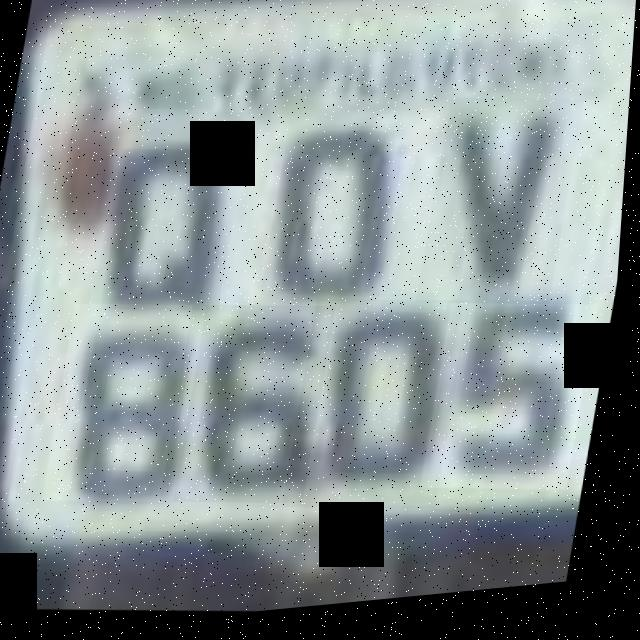0: (288, 294, 476, 529)
5: (426, 301, 603, 513)
6: (165, 298, 341, 520)
8: (48, 295, 212, 516)
O: (89, 103, 264, 329)
V: (419, 96, 587, 325)
